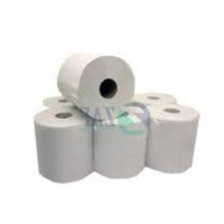tissue: (51, 44, 141, 124), (29, 101, 99, 185), (140, 98, 205, 176), (88, 104, 151, 181), (128, 88, 181, 114)
